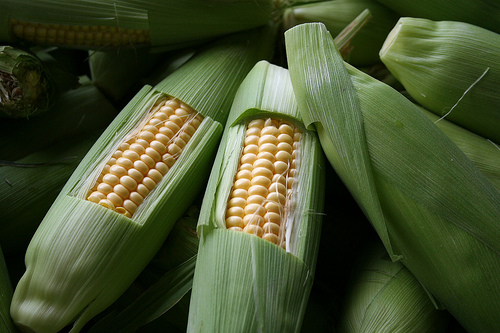corn: (7, 49, 256, 332), (189, 59, 316, 332)
